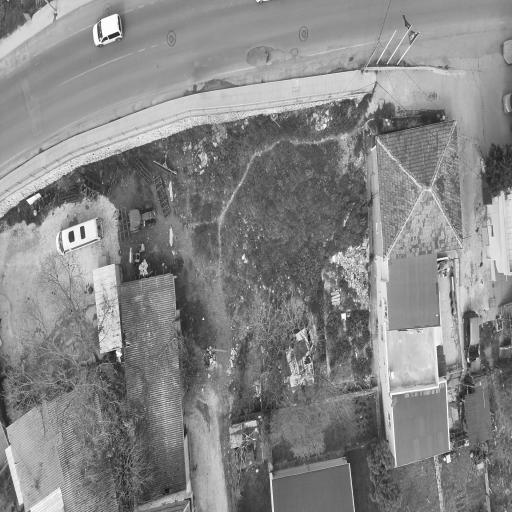car: (56, 218, 103, 254), (93, 14, 122, 46), (463, 311, 479, 363), (129, 208, 155, 232), (503, 94, 511, 114)
